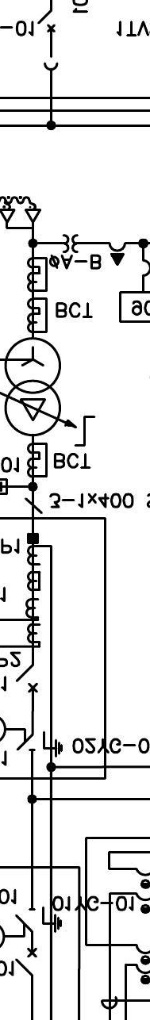11522_tx_dyn1: (4, 337, 62, 437)
115_breaker: (14, 947, 38, 977), (15, 664, 39, 693)
